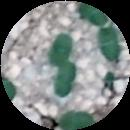Basil: (53, 59, 80, 95), (50, 30, 77, 65), (97, 28, 120, 63), (59, 113, 96, 129), (81, 5, 107, 25)
